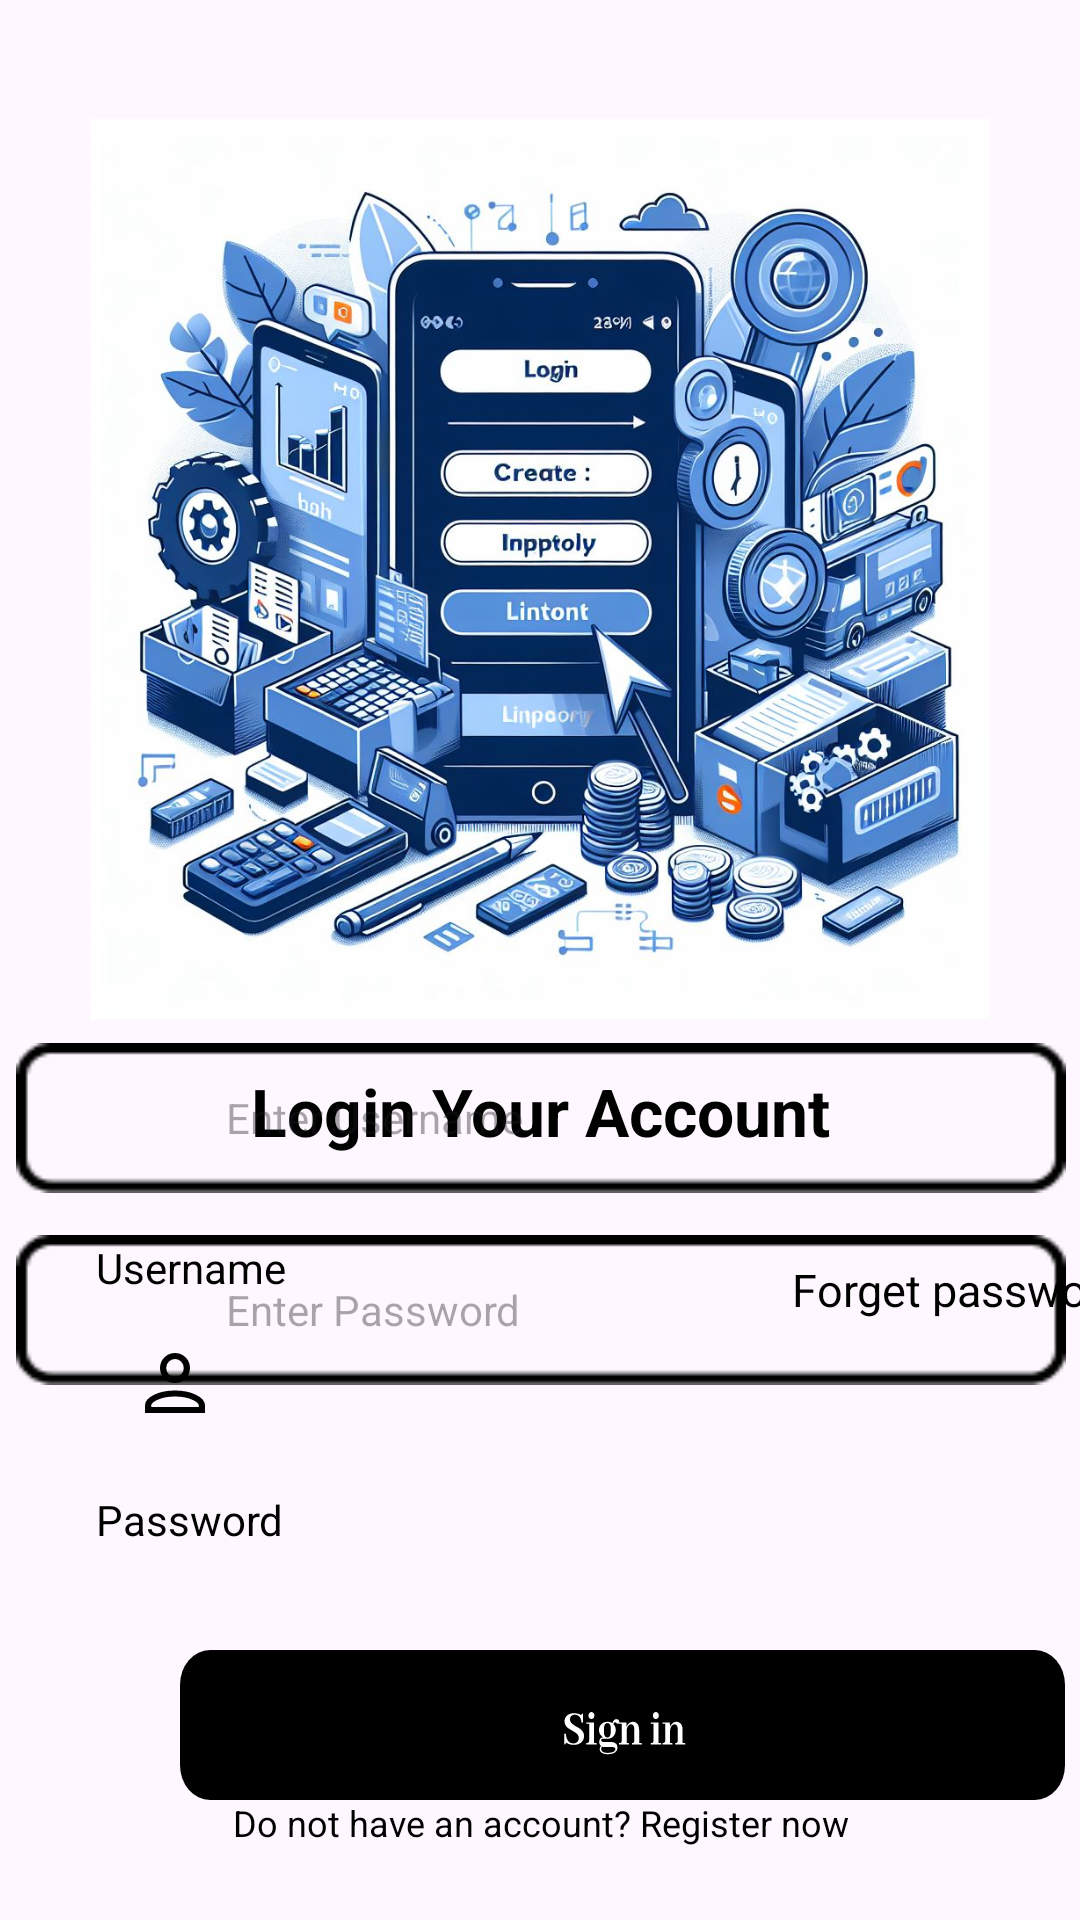

Icon click points for this 1080w x 1920h phone screenshot, format point (x, y):
view profile: point (175, 1383)
